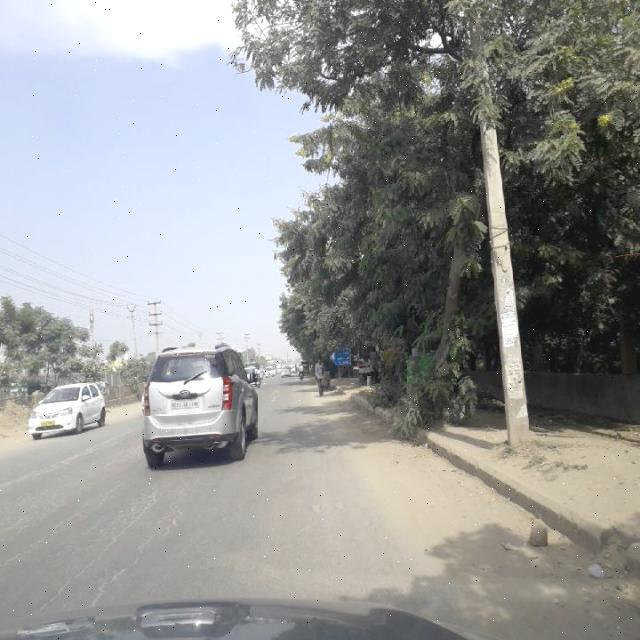D00: (1, 476, 182, 604)
D40: (304, 491, 349, 516)
